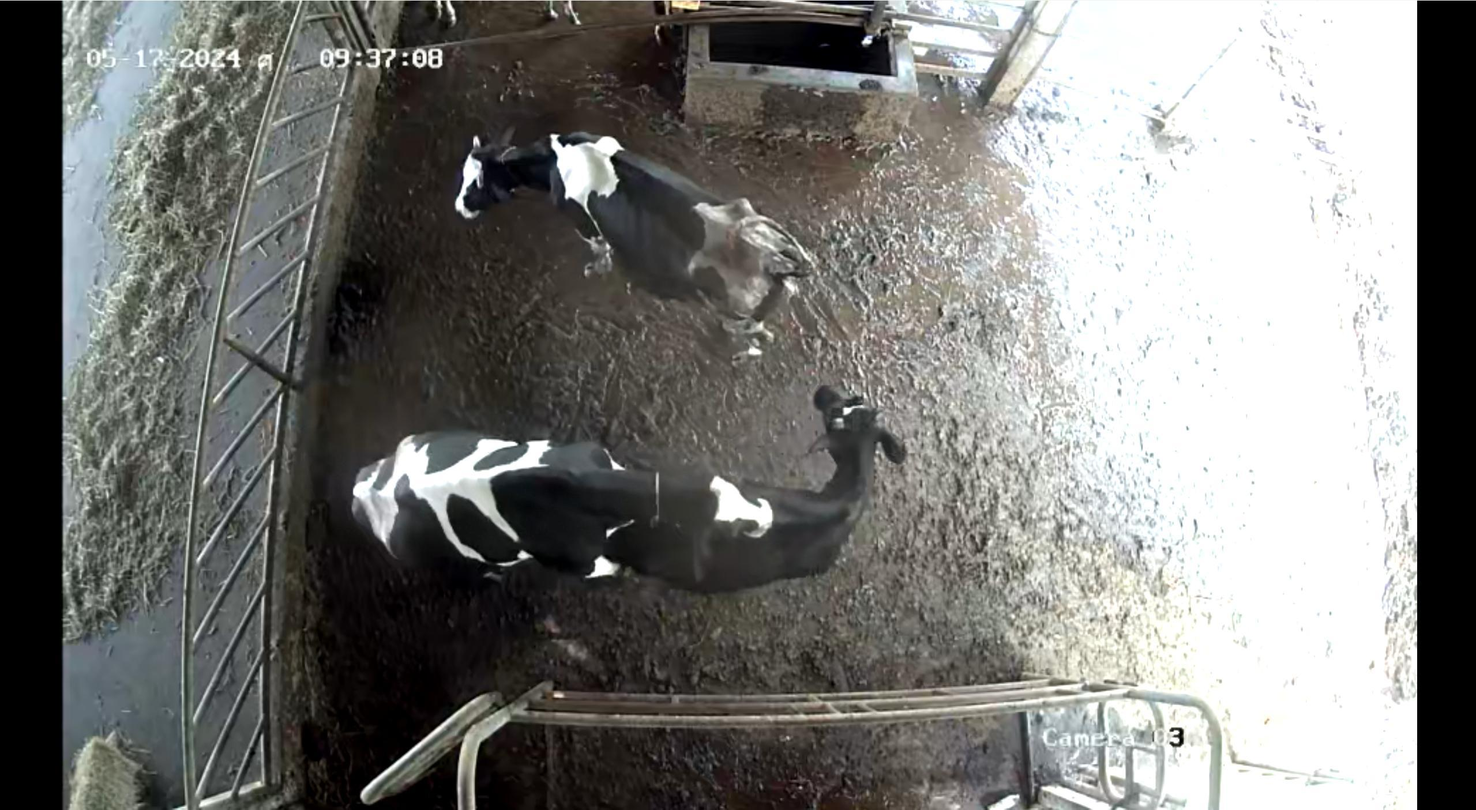ride: (326, 412, 778, 624)
stand: (430, 121, 832, 354), (658, 363, 923, 626)
